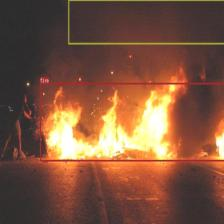fire: (40, 82, 224, 161)
smoke: (68, 0, 224, 44)
